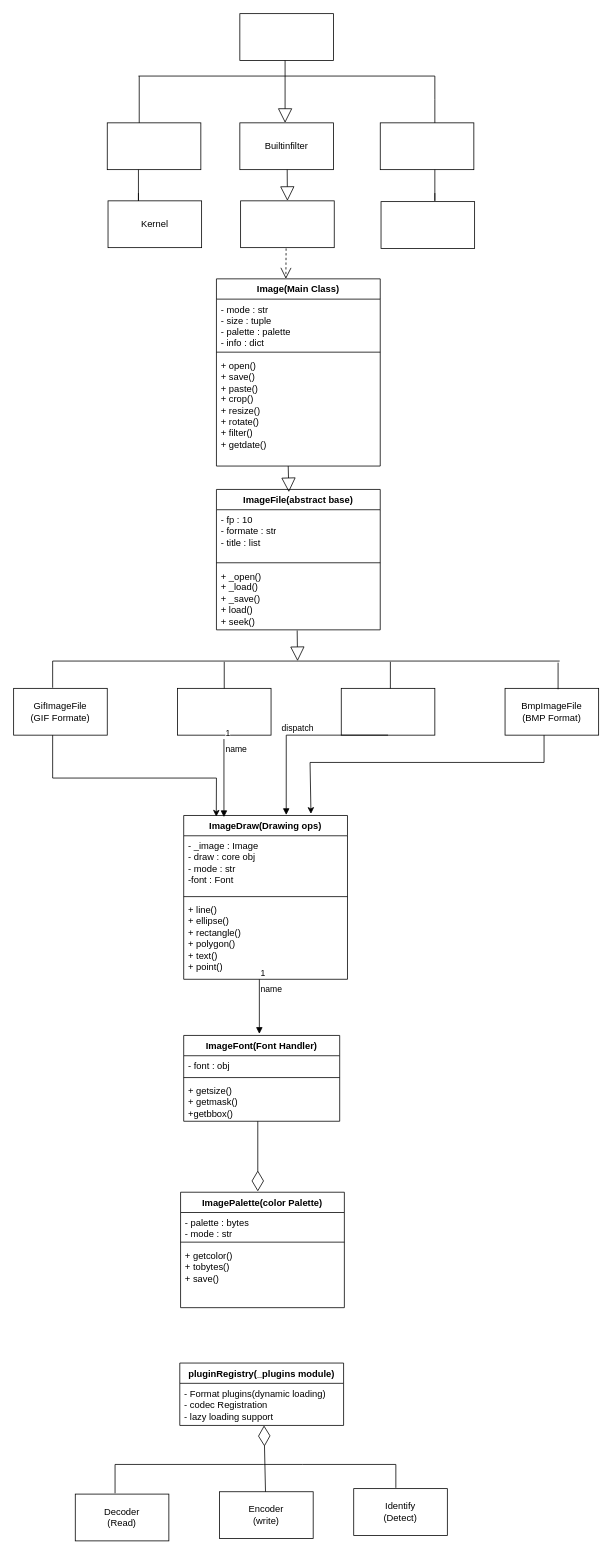
Some shapes in this 612 by 1555 pixel diagram are drawn without their labels. The shapes that lost their labels are listed below. From the top down, each one's centre as x and y in pixels, then its label:
(x=286, y=36): «abstract» filter
(x=153, y=146): Multibandfilter
(x=426, y=146): Rankfilter
(x=287, y=224): MedianFilter
(x=427, y=224): GaussianBlur
(x=224, y=711): PngImagePlugin (PNG Format)
(x=387, y=711): JpegImageFile (JPEG Format)
